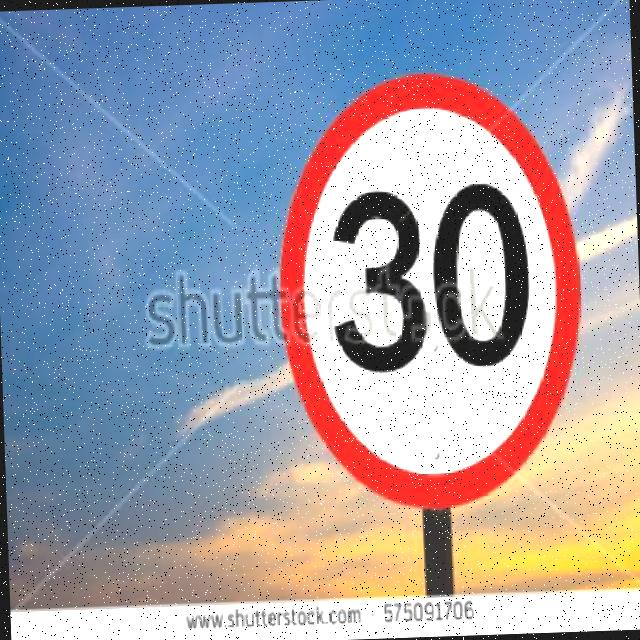Ograniczenie predkosci do 30: (279, 74, 582, 496)
